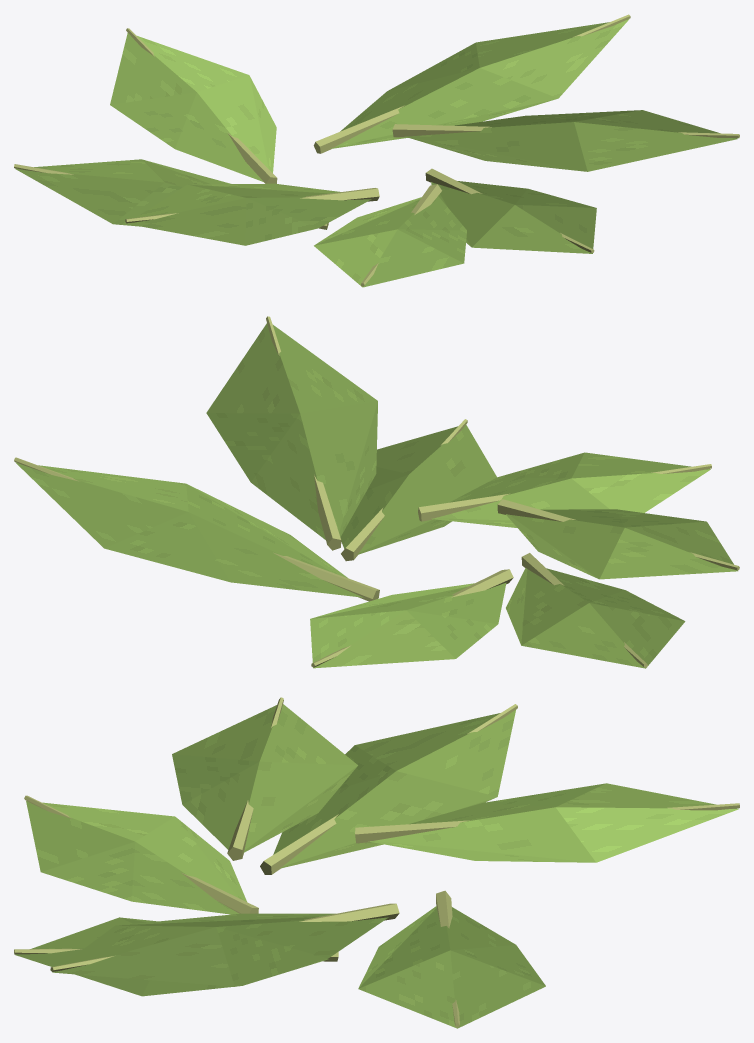
File: sea_lettuce.glb
3 renders of one model, top to bottom at view 1: azimuth 30°, elevation 25°; view 2: azimuth 150°, elevation 25°; view 3: azimuth 270°, elevation 25°, orthographic. The views are drawn at different scales.
Visible parts, largest first — view 1: block_veined leaf blade (×14), block_veined leaf tip (×14), block_veined leaf vein (×6); view 2: block_veined leaf blade (×14), block_veined leaf tip (×14), block_veined leaf vein (×7); view 3: block_veined leaf blade (×13), block_veined leaf tip (×14), block_veined leaf vein (×6).
Boxes of the visible parts, x1,y1,x2,y2 form: block_veined leaf blade (×14): (110, 42, 641, 263); block_veined leaf tip (×14): (15, 19, 738, 287); block_veined leaf vein (×6): (125, 14, 739, 286); block_veined leaf blade (×14): (104, 401, 705, 658); block_veined leaf tip (×14): (15, 323, 737, 668); block_veined leaf vein (×7): (14, 316, 739, 667); block_veined leaf blade (×13): (41, 745, 605, 996); block_veined leaf tip (×14): (14, 704, 738, 1028); block_veined leaf vein (×6): (24, 697, 739, 1027).
Size of the model in its own units: 0.1058 by 0.0149 by 0.0933.
2 materials, 2 textured.
